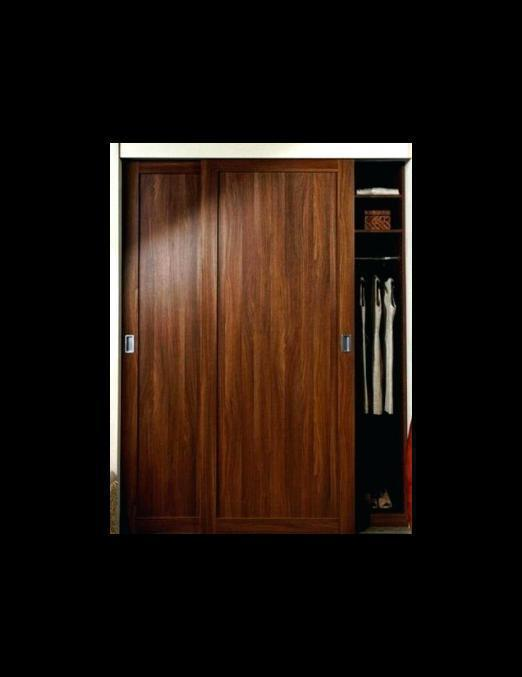Armario: (123, 153, 409, 531)
